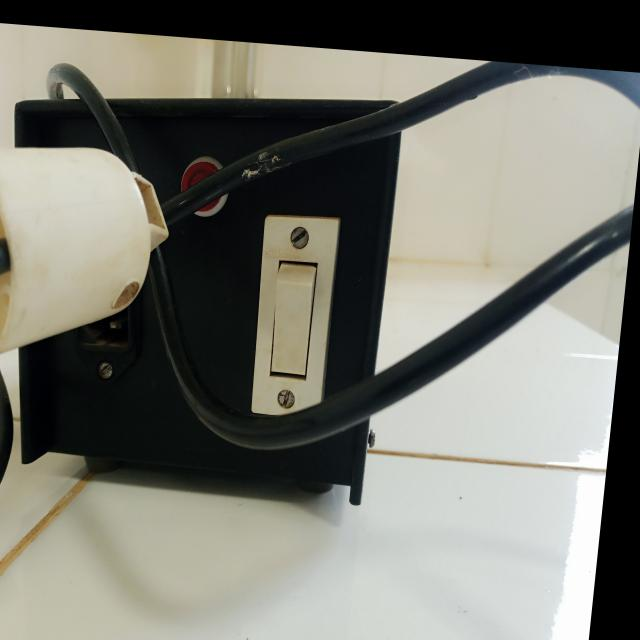Sodium Lamp Power Supply: (0, 49, 426, 530)
